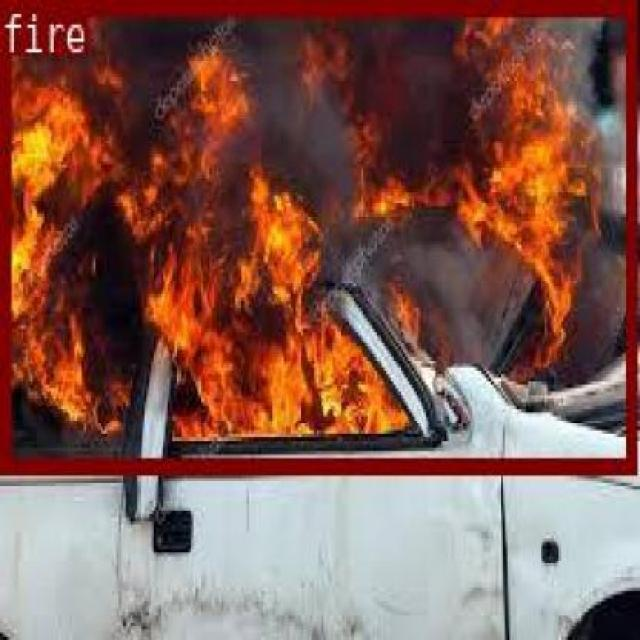Fire: (2, 0, 622, 453)
Smoke: (115, 0, 560, 387)
